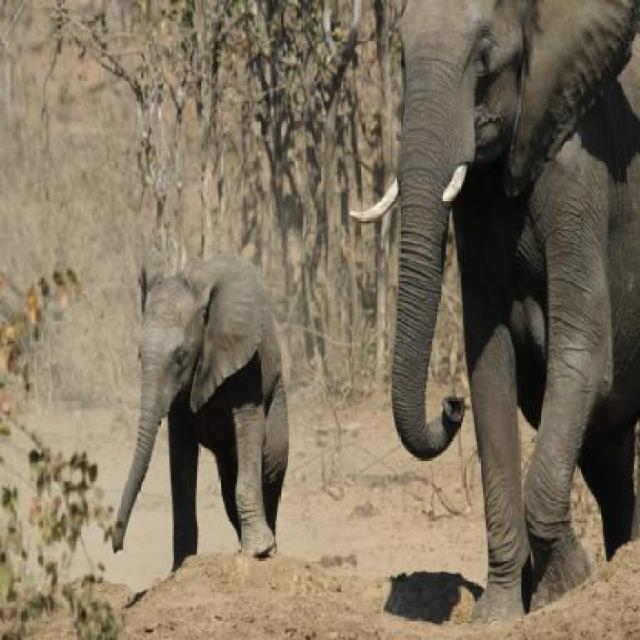Elephant: (351, 0, 640, 637), (100, 257, 288, 581)
